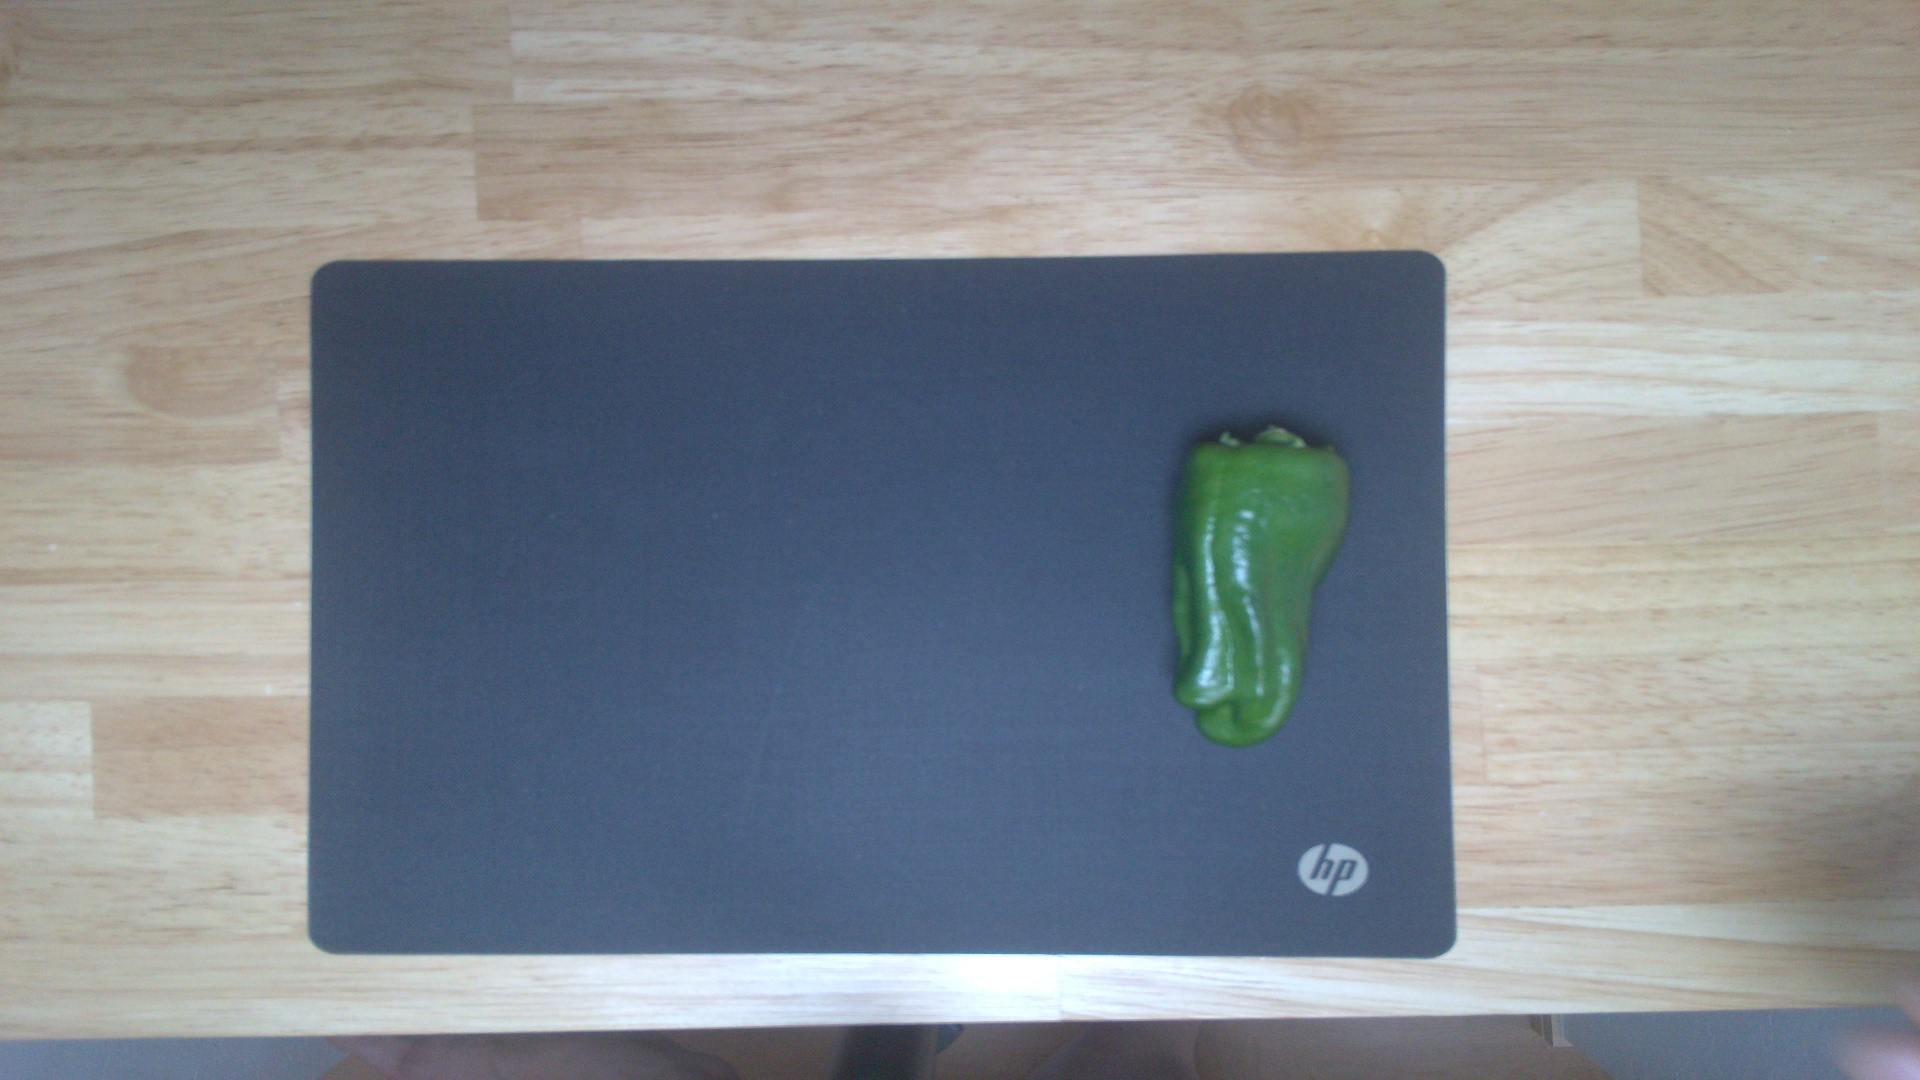Piman: (1162, 419, 1358, 748)
